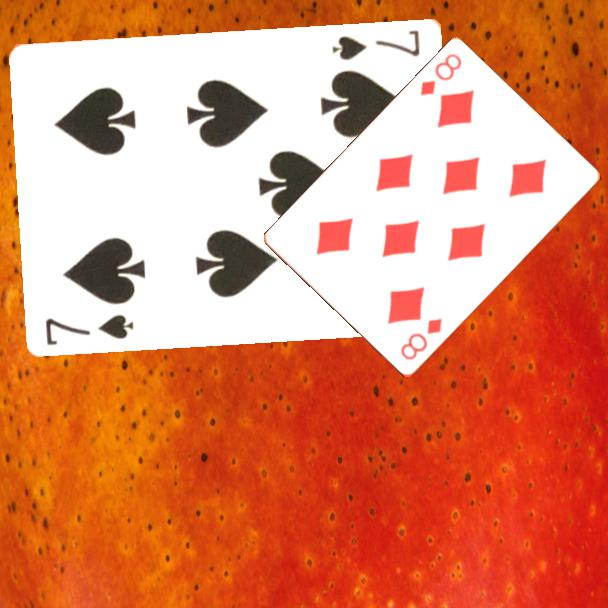d08: (416, 51, 465, 100), (397, 315, 445, 364)
s07: (42, 310, 137, 348), (329, 26, 424, 63)
